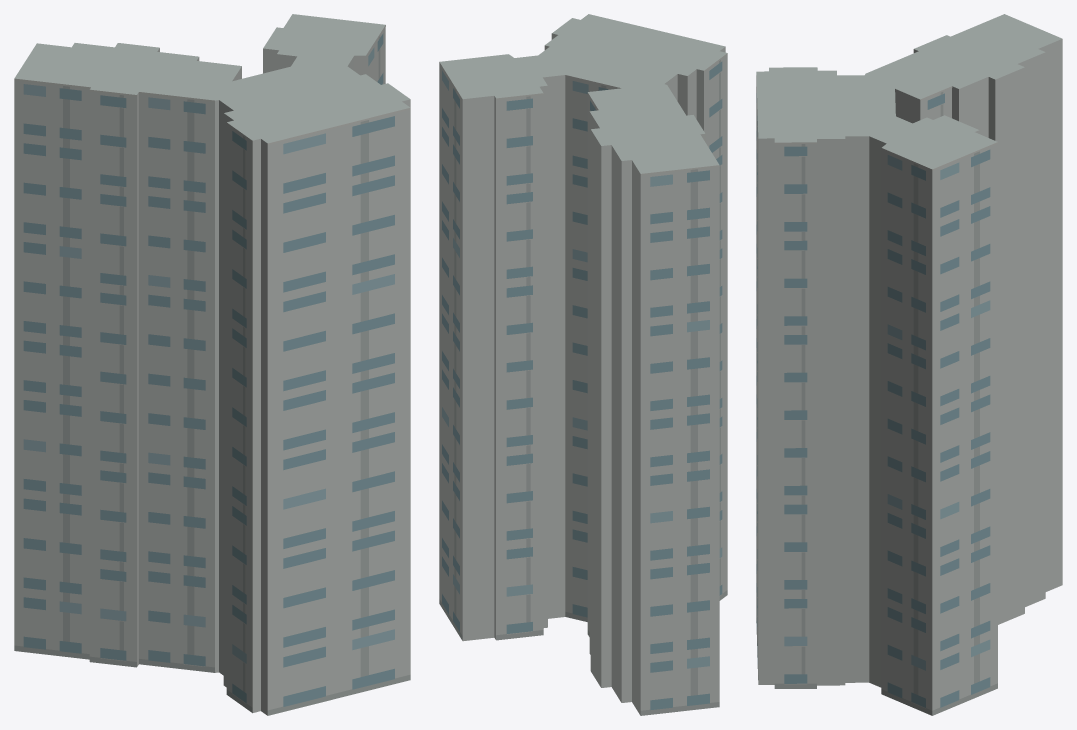
Rendered from residential-1a11d94c-c883-4b79-a42f-a2d3c84a4f5a.glb.
3 renders of one model, left to right at view 1: azimuth 30°, elevation 25°; view 2: azimuth 150°, elevation 25°; view 3: azimuth 270°, elevation 25°, orthographic. The views are drawn at different scales.
Parts seen in each view (by area): view 1: residential-1a11d94c-c883-4b79-a42f-a2d3c84a4f5a.tmp; view 2: residential-1a11d94c-c883-4b79-a42f-a2d3c84a4f5a.tmp; view 3: residential-1a11d94c-c883-4b79-a42f-a2d3c84a4f5a.tmp.
Boxes of the visible parts, x1=… form: residential-1a11d94c-c883-4b79-a42f-a2d3c84a4f5a.tmp: x1=14, y1=14, x2=410, y2=715; residential-1a11d94c-c883-4b79-a42f-a2d3c84a4f5a.tmp: x1=439, y1=14, x2=727, y2=715; residential-1a11d94c-c883-4b79-a42f-a2d3c84a4f5a.tmp: x1=756, y1=14, x2=1062, y2=715.
Size of the model in its own units: 48.21 by 79 by 40.13.
